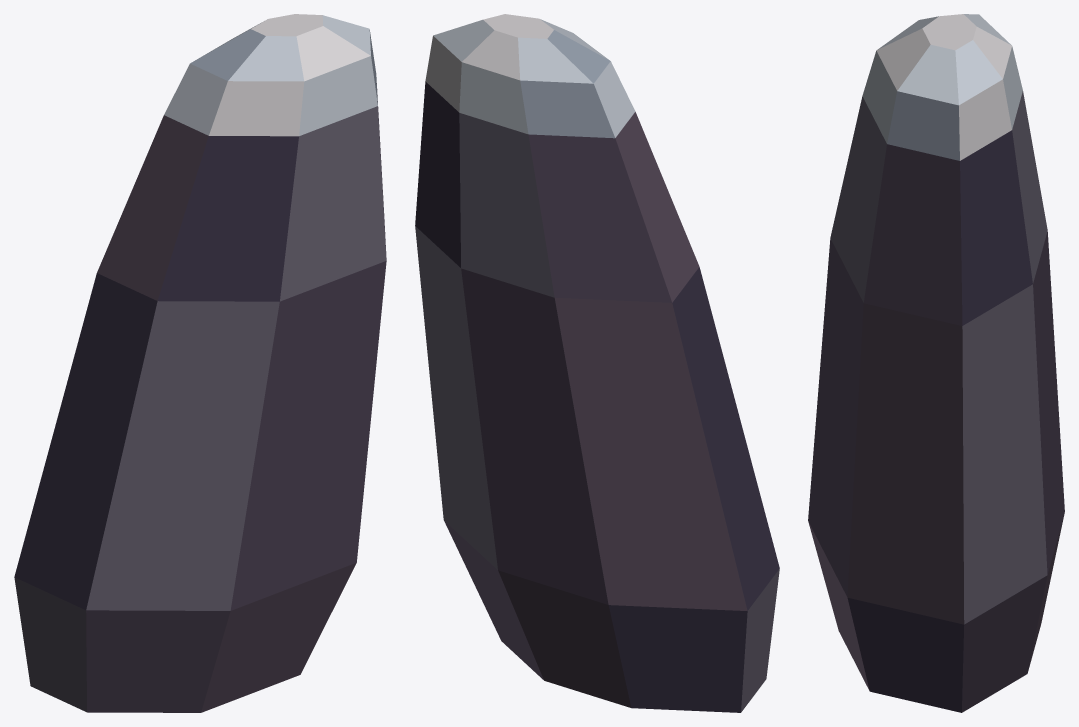
Rendered from obsidian-fin.glb.
3 renders of one model, left to right at view 1: azimuth 30°, elevation 25°; view 2: azimuth 150°, elevation 25°; view 3: azimuth 270°, elevation 25°, orthographic. The views are drawn at different scales.
Parts seen in each view (by area): view 1: obsidian-fin; view 2: obsidian-fin; view 3: obsidian-fin.
Boxes of the visible parts, x1=… form: obsidian-fin: x1=14, y1=14, x2=386, y2=712; obsidian-fin: x1=415, y1=14, x2=779, y2=712; obsidian-fin: x1=808, y1=14, x2=1064, y2=712.
Size of the model in its own units: 2.81 by 4.7 by 1.62.
